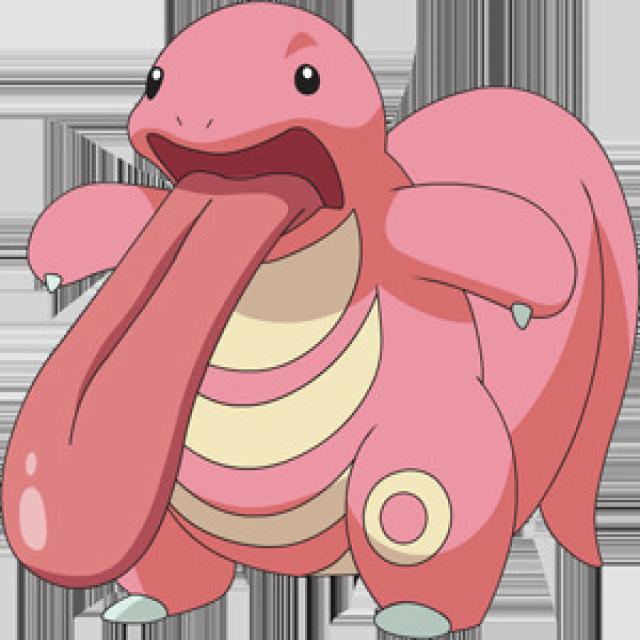Lickitung: (18, 0, 573, 631)
